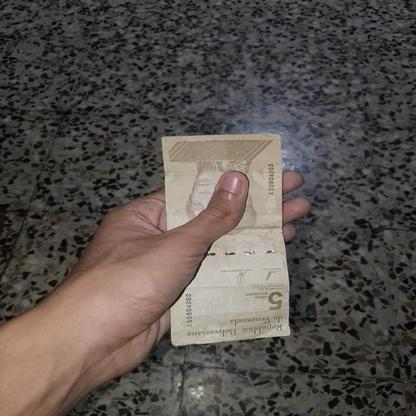five-front-vef: (162, 133, 292, 347)
